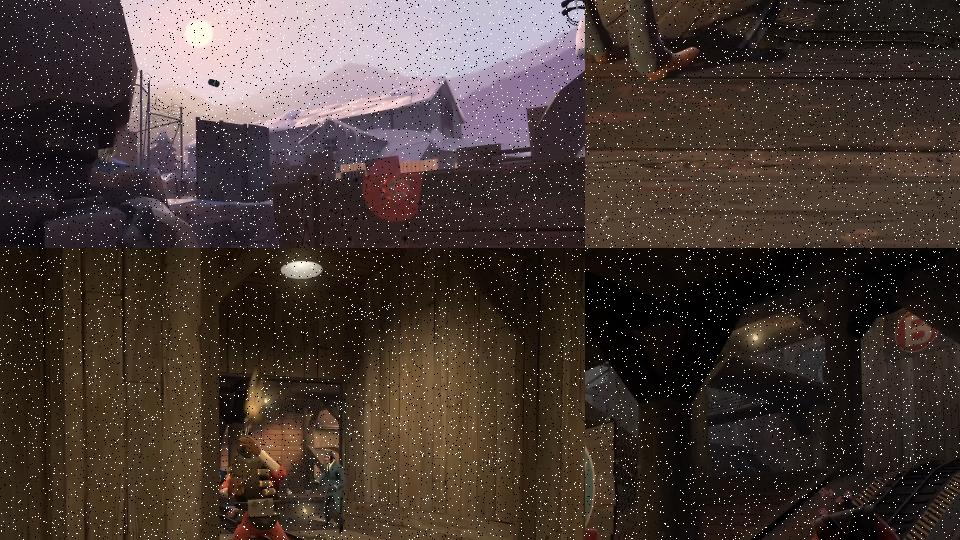Enemy: (216, 421, 296, 540), (802, 495, 903, 540), (311, 450, 346, 534)
